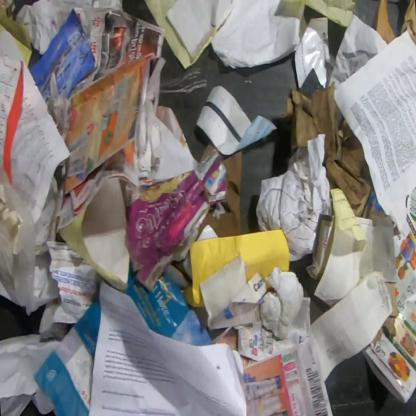cardboard: (281, 81, 386, 221), (126, 149, 228, 291), (376, 0, 398, 45), (385, 281, 399, 317)
